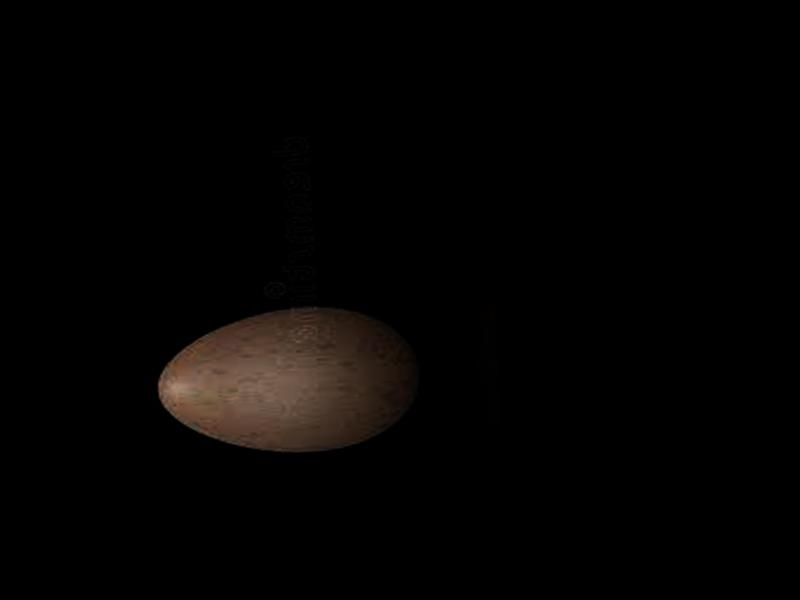Eggs: (152, 303, 424, 460)
